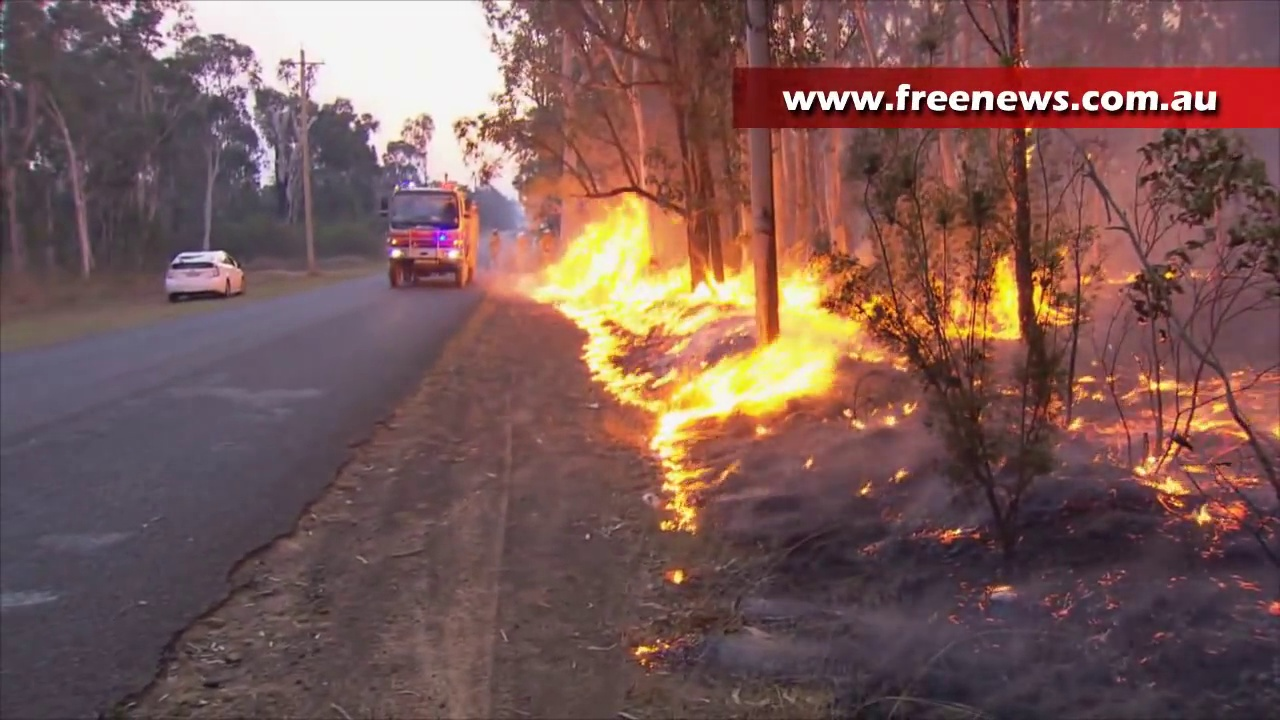fire: (536, 195, 833, 328), (661, 327, 842, 443), (1150, 377, 1278, 430), (575, 331, 655, 405), (947, 260, 1018, 337)
